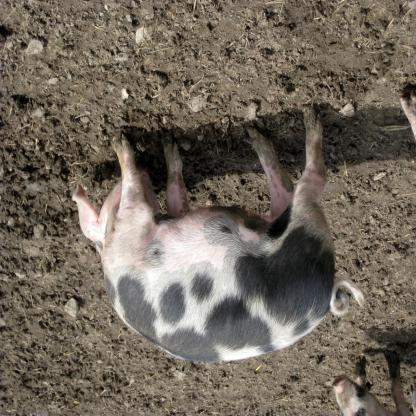boar: (71, 105, 367, 364), (332, 351, 416, 416), (397, 90, 415, 141)
